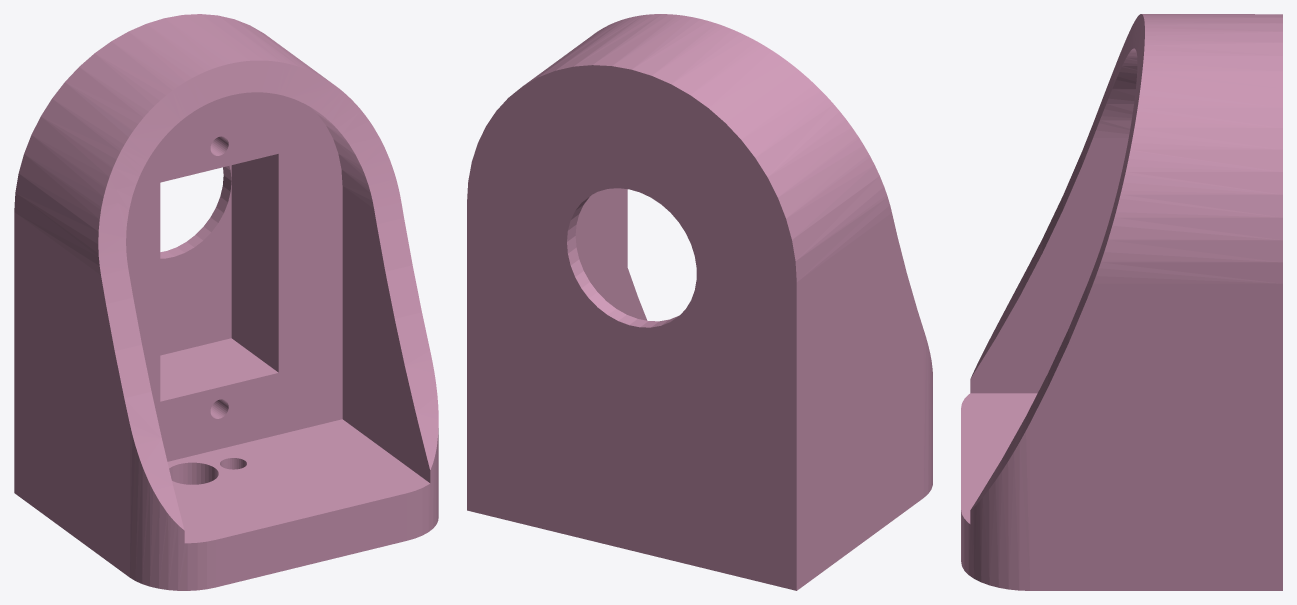
File: case-01_lib00007.glb
3 views of the same model, side by side, from view 1: azimuth 30°, elevation 25°; view 2: azimuth 150°, elevation 25°; view 3: azimuth 270°, elevation 25° (orthographic). The views are drawn at different scales.
Parts seen in each view (by area): view 1: lib00007; view 2: lib00007; view 3: lib00007.
Part boxes in pixels (x1,y1,x2,y2): lib00007: (14,14,438,590); lib00007: (467,14,932,590); lib00007: (961,14,1282,590).
Size of the model in its own units: 55.96 by 78 by 47.48.
